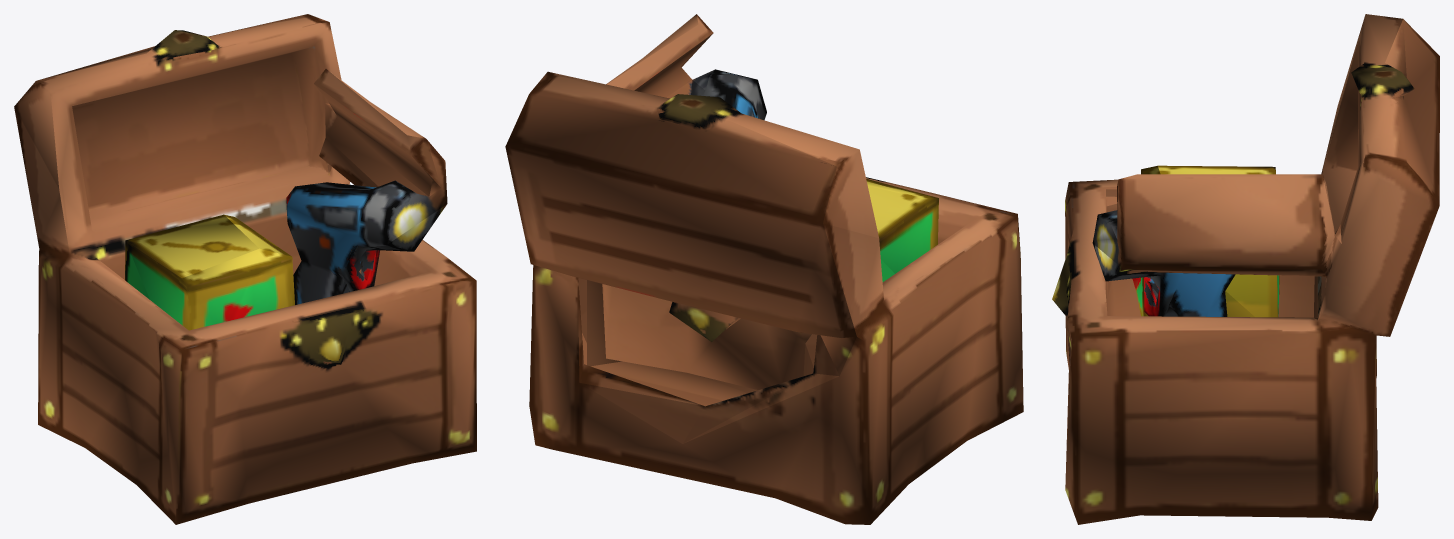
The model's file is tool-crate.glb.
3 views of the same model, side by side, from view 1: azimuth 30°, elevation 25°; view 2: azimuth 150°, elevation 25°; view 3: azimuth 270°, elevation 25° (orthographic). The views are drawn at different scales.
Visible parts, largest first — view 1: geometry_0.001; view 2: geometry_0.001; view 3: geometry_0.001.
Boxes of the visible parts, x1,y1,x2,y2 form: geometry_0.001: (14,14,476,524); geometry_0.001: (505,14,1023,524); geometry_0.001: (1052,14,1439,524).
Size of the model in its own units: 0.9236 by 0.9986 by 0.9396.
1 material, 1 textured.
